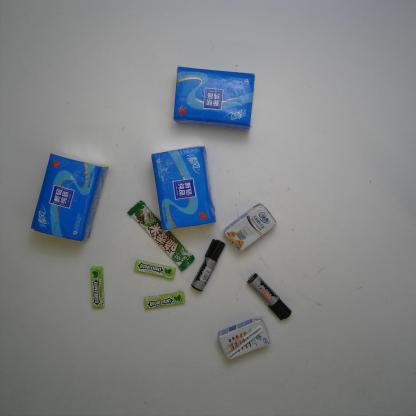Chocolate: (124, 200, 197, 274)
Gum: (142, 286, 188, 316), (131, 257, 180, 282), (86, 265, 107, 313)
Milk: (220, 199, 278, 256), (216, 315, 271, 362)
Stationery: (246, 271, 295, 323), (189, 238, 227, 294)
Tissue: (29, 149, 111, 246), (146, 145, 219, 235), (170, 65, 260, 133)
